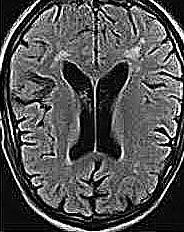Normal_Brain: (1, 1, 184, 232)
